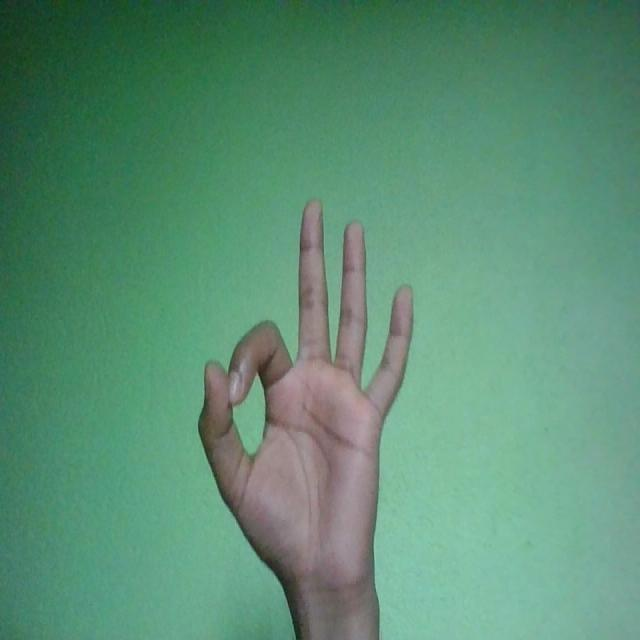Rock On: (200, 197, 416, 604)
